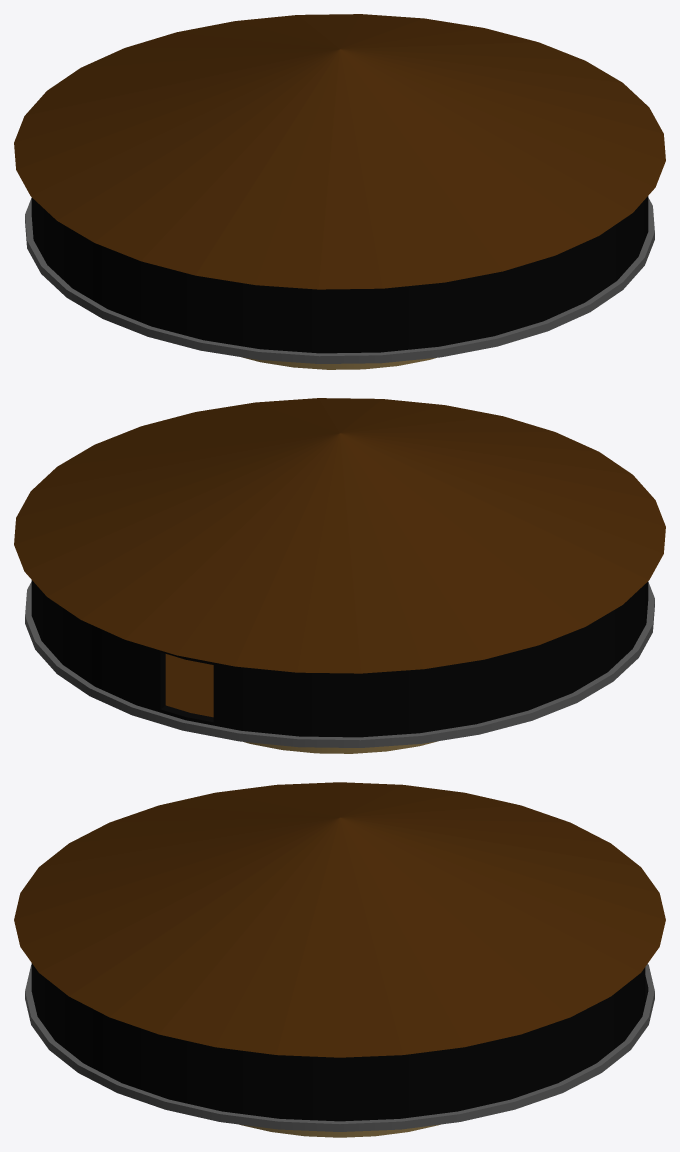
File: Bar.fbx
3 renders of one model, top to bottom at view 1: azimuth 30°, elevation 25°; view 2: azimuth 150°, elevation 25°; view 3: azimuth 270°, elevation 25°, orthographic.
Visible parts, largest first — view 1: Cone, Cylinder, Cylinder.001; view 2: Cone, Cylinder, Cylinder.001; view 3: Cone, Cylinder, Cylinder.001.
Boxes of the visible parts, left/top/right/bottom form: Cone: left=14, top=14, right=665, bottom=289; Cylinder: left=25, top=196, right=654, bottom=363; Cylinder.001: left=242, top=357, right=436, bottom=369; Cone: left=14, top=398, right=665, bottom=673; Cylinder: left=25, top=580, right=654, bottom=747; Cylinder.001: left=243, top=741, right=437, bottom=753; Cone: left=14, top=782, right=665, bottom=1057; Cylinder: left=25, top=963, right=654, bottom=1131; Cylinder.001: left=240, top=1124, right=439, bottom=1137.
Size of the model in its own units: 3722 by 3722 by 1558.
